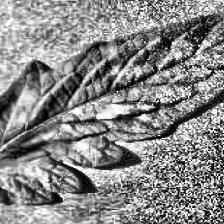leaf mold: (0, 0, 224, 206)
